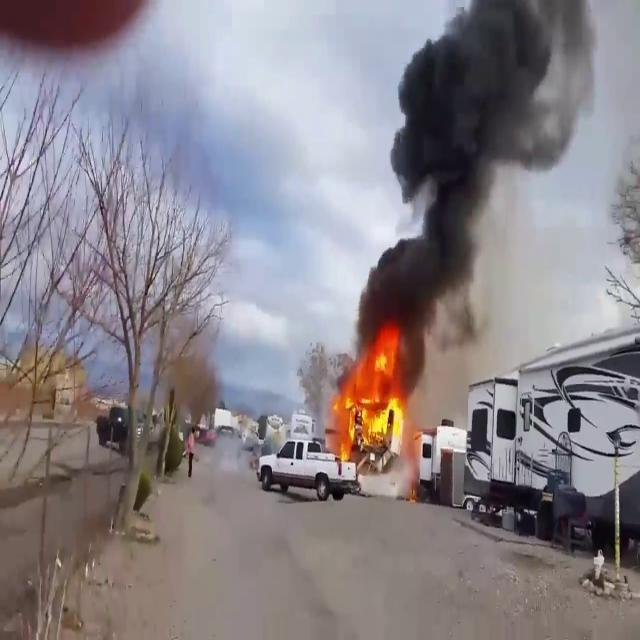Fire: (330, 336, 410, 457)
Smoke: (354, 1, 596, 366)
